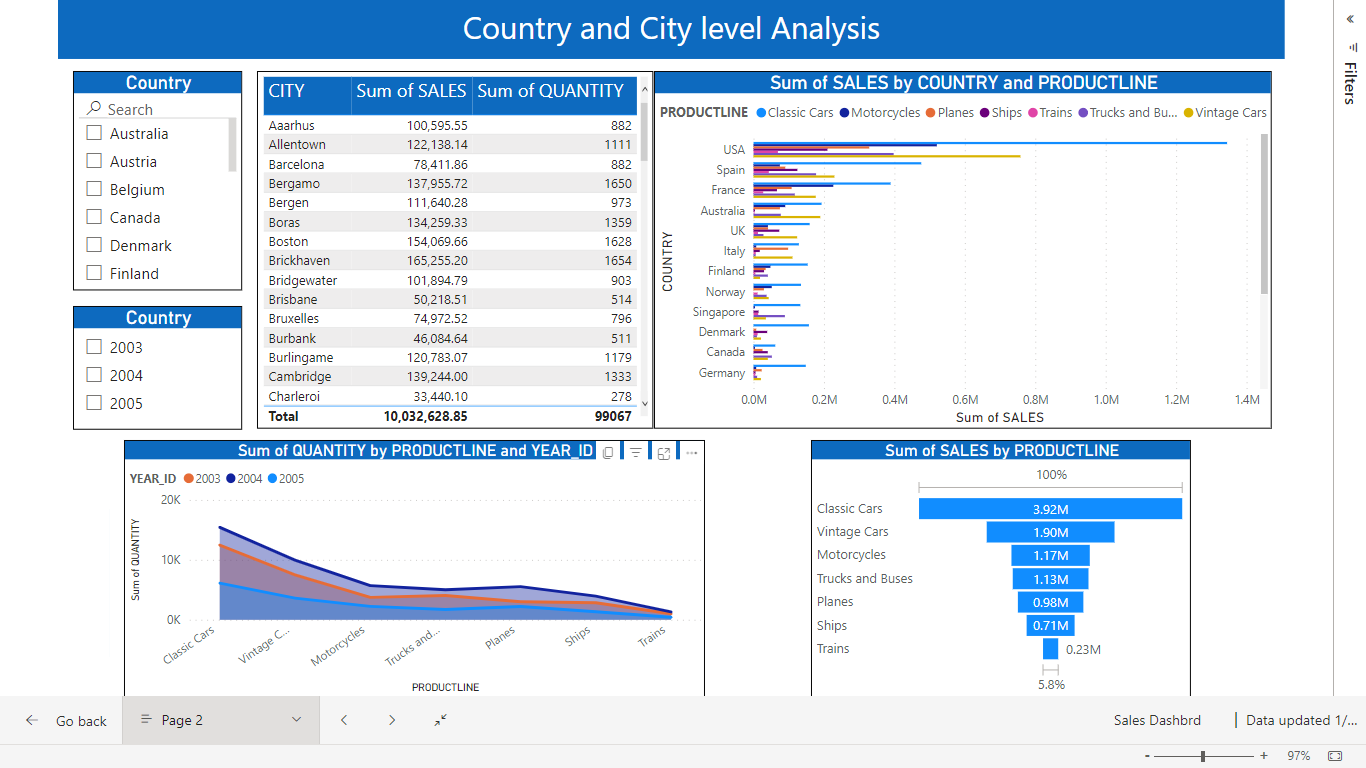

The page's visual inventory and layout, read from the dashboard file:
{"tool":"powerbi","page":{"name":"Page 2","canvas":[1280,720],"ordinal":1},"visuals":[{"type":"textbox","box":[10.8,0,1269.2,61.5],"z":0},{"type":"slicer","title":"Country","fields":{"Values":["sales_data_sample.COUNTRY"]},"box":[26.1,73.8,175.2,227.4],"z":1000},{"type":"slicer","title":"Country","fields":{"Values":["sales_data_sample.YEAR_ID"]},"box":[26.1,316.5,175.2,127.5],"z":2000},{"type":"tableEx","fields":{"Values":["sales_data_sample.CITY","Sum(sales_data_sample.SALES)","Sum(sales_data_sample.QUANTITY)"]},"box":[216.7,73.8,410.3,370.3],"z":3000},{"type":"clusteredBarChart","fields":{"Series":["sales_data_sample.PRODUCTLINE"],"Y":["Sum(sales_data_sample.SALES)"],"Category":["sales_data_sample.COUNTRY"]},"box":[626.9,73.8,639.2,370.3],"z":4000},{"type":"areaChart","fields":{"Series":["sales_data_sample.YEAR_ID"],"Category":["sales_data_sample.PRODUCTLINE"],"Y":["Sum(sales_data_sample.QUANTITY)"]},"box":[78.4,454.8,600.8,265.8],"z":5000},{"type":"funnel","fields":{"Category":["sales_data_sample.PRODUCTLINE"],"Y":["Sum(sales_data_sample.SALES)"]},"box":[789.8,454.8,393.4,265.8],"z":6000}]}

Visuals, with their boxes on the page's 1280x720 design canvas (x1, y1, x2, y2). These are canvas units, not pixel positions in the 1366x768 screenshot, which may show the page scaled, cropped or inside an application window:
textbox: box(11, 0, 1280, 62)
"Country" slicer: box(26, 74, 201, 301)
"Country" slicer: box(26, 316, 201, 444)
tableEx - sales_data_sample.CITY x Sum(sales_data_sample.SALES): box(217, 74, 627, 444)
clusteredBarChart - sales_data_sample.PRODUCTLINE x Sum(sales_data_sample.SALES): box(627, 74, 1266, 444)
areaChart - sales_data_sample.YEAR_ID x sales_data_sample.PRODUCTLINE: box(78, 455, 679, 721)
funnel - sales_data_sample.PRODUCTLINE x Sum(sales_data_sample.SALES): box(790, 455, 1183, 721)
